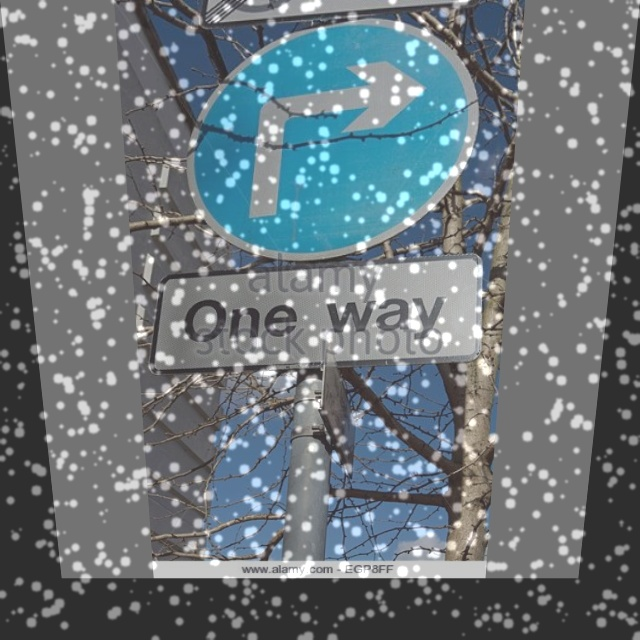Compulsory_Turn_Right_Ahead: (179, 20, 480, 251)
